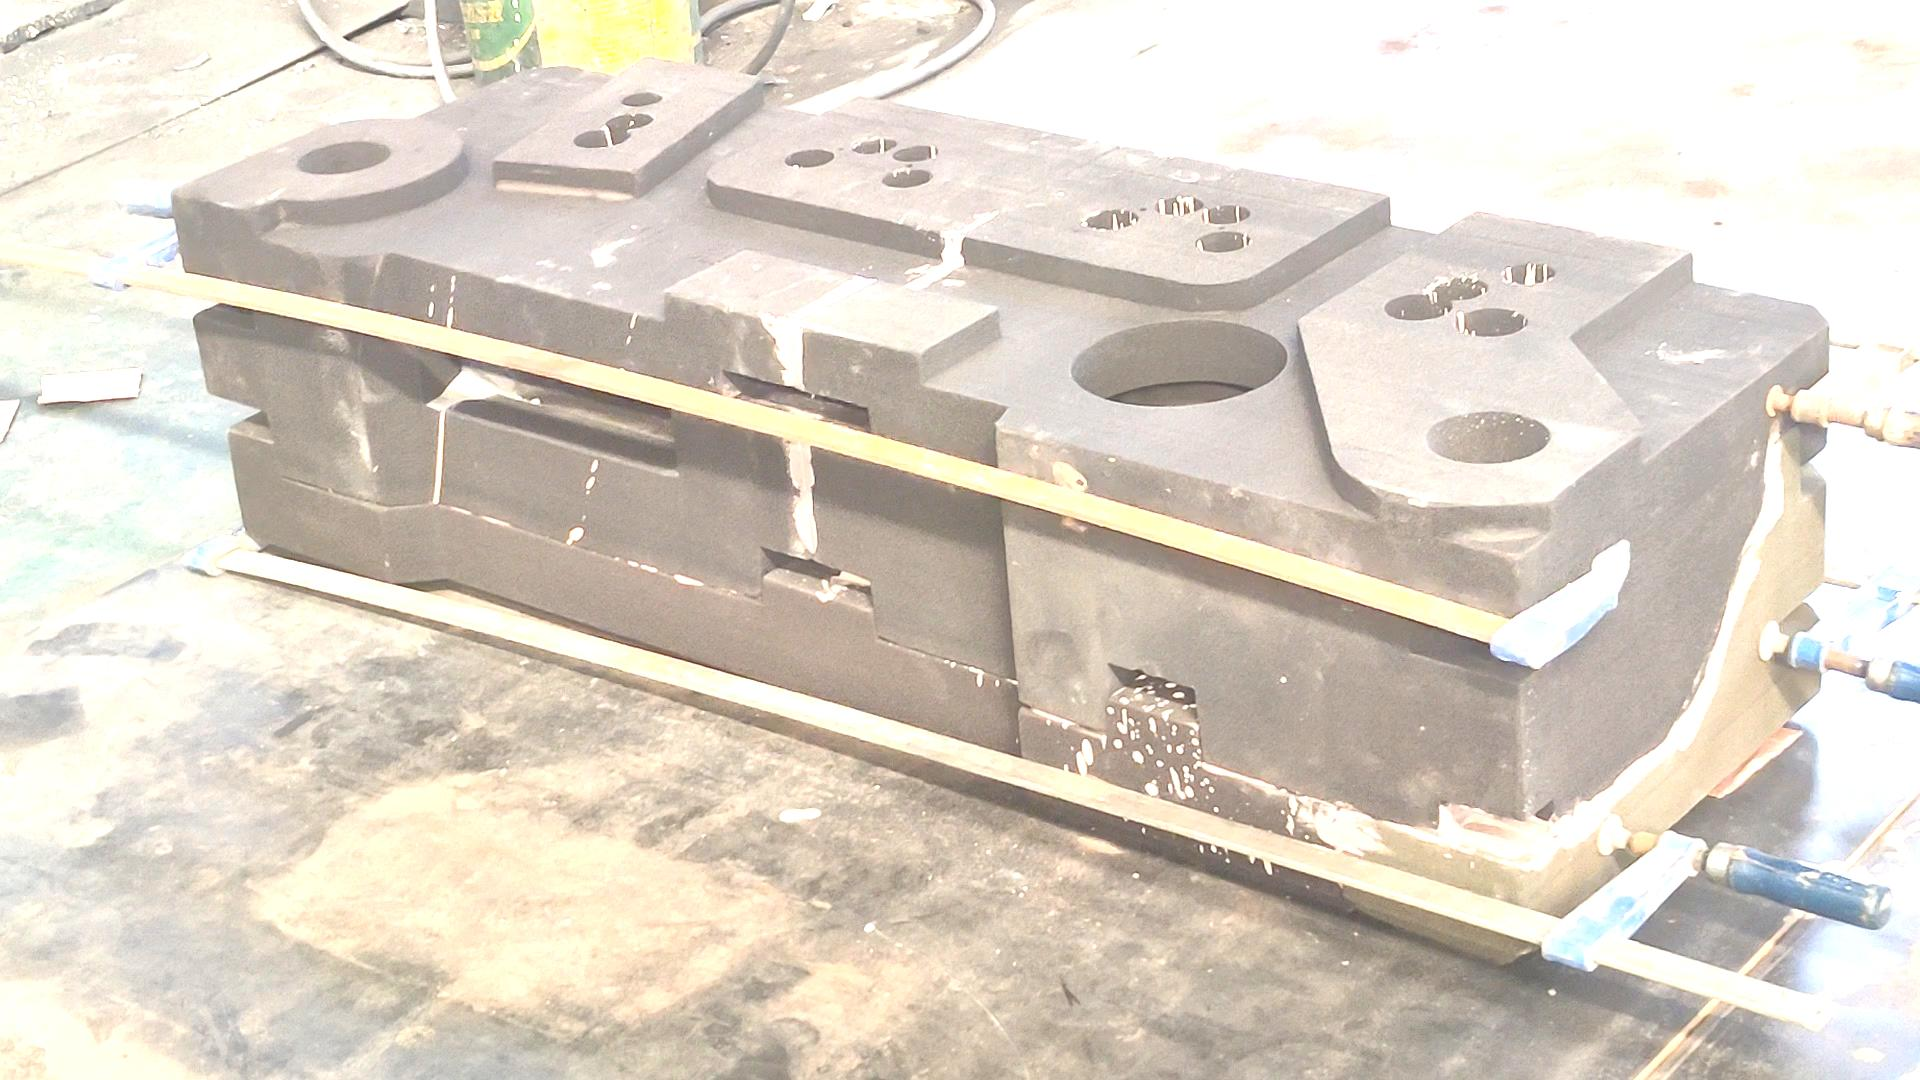pouring hole: (1427, 411, 1549, 464), (295, 141, 392, 175)
